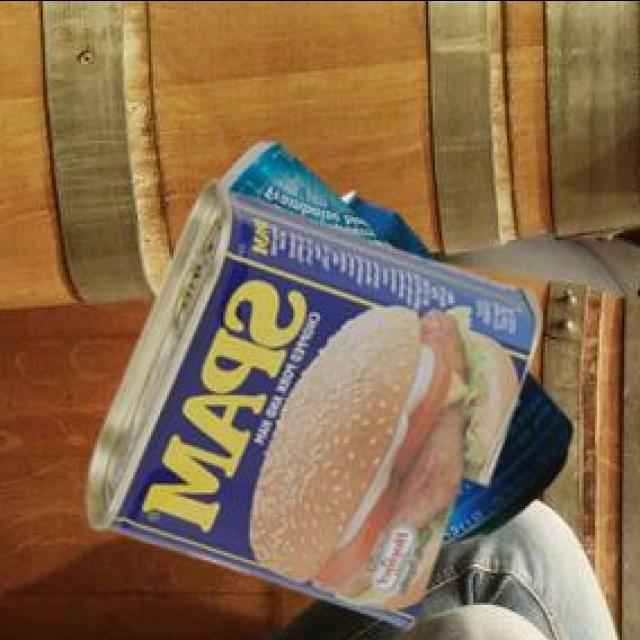logam: (91, 184, 542, 630), (346, 195, 576, 546), (222, 145, 395, 250)
